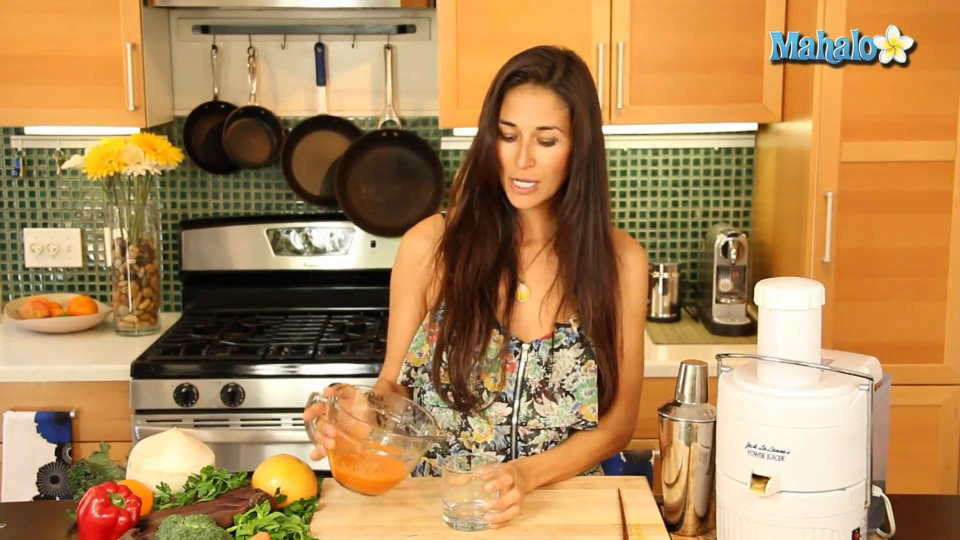person: (374, 55, 652, 457)
